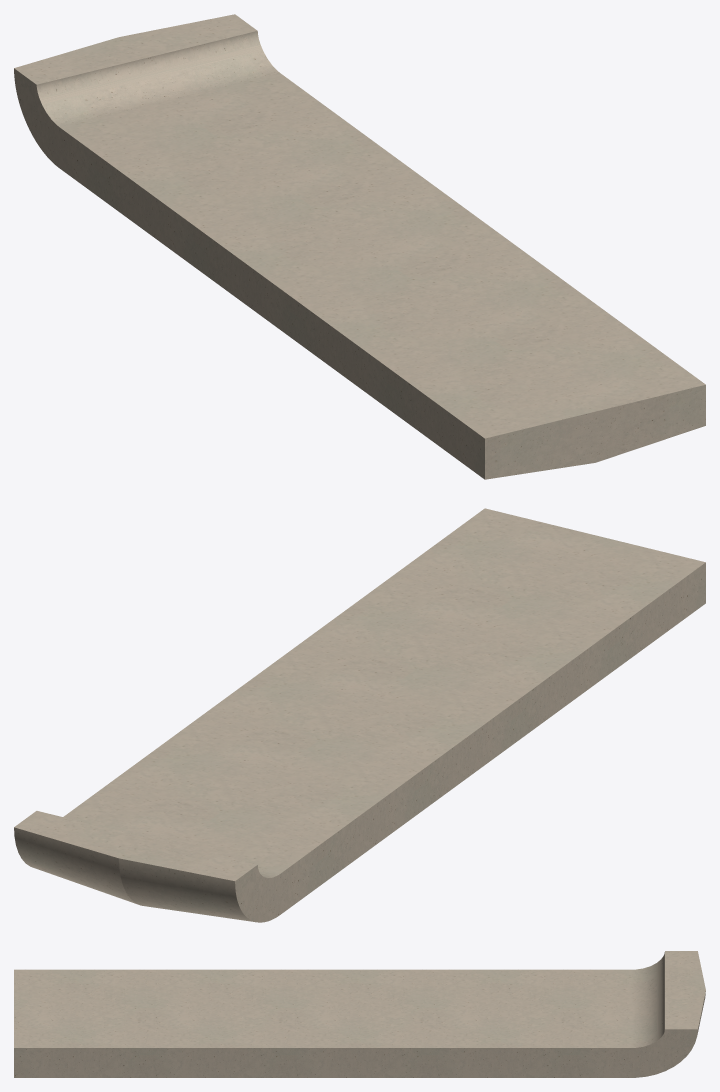
3 views of the same model, one above another, from view 1: azimuth 30°, elevation 25°; view 2: azimuth 150°, elevation 25°; view 3: azimuth 270°, elevation 25° (orthographic). The views are drawn at different scales.
Parts seen in each view (by area): view 1: B1.SLDPRT; view 2: B1.SLDPRT; view 3: B1.SLDPRT.
Boxes of the visible parts, x1,y1,x2,y2 form: B1.SLDPRT: (14,14,705,479); B1.SLDPRT: (14,508,705,922); B1.SLDPRT: (14,951,705,1077).
Size of the model in its own units: 0.225 by 0.0748 by 0.8398.
Materials: 1 (1 with a texture image).
